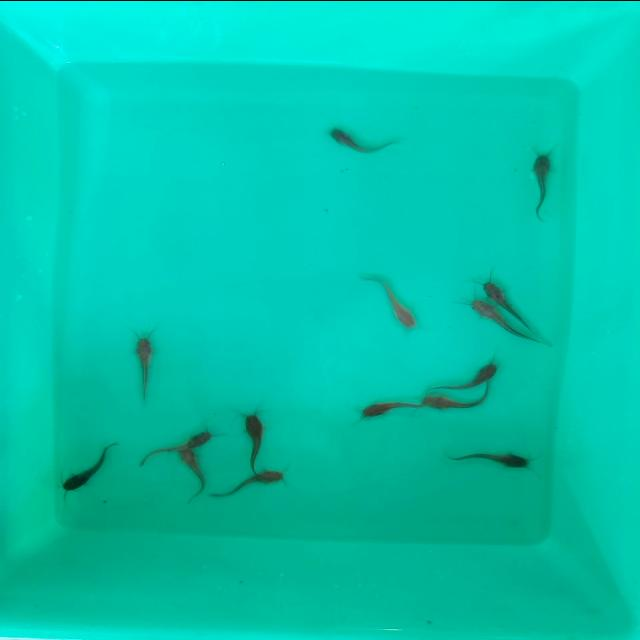lele: (61, 435, 118, 492), (472, 297, 540, 339), (482, 276, 536, 324), (210, 468, 288, 499), (378, 280, 422, 330), (326, 125, 398, 154), (420, 388, 500, 414), (446, 448, 538, 470), (434, 362, 504, 390), (140, 428, 214, 453), (532, 150, 556, 220), (241, 407, 267, 471), (358, 396, 418, 421), (178, 448, 205, 501), (130, 336, 152, 400)
